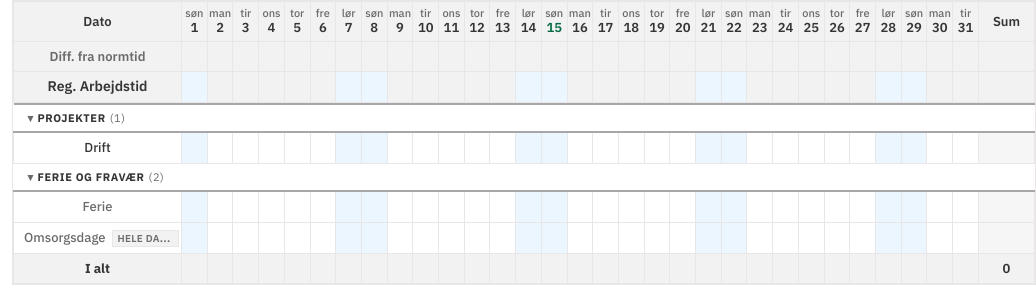
Test: SkemaGrid — full-day snap (S73 R5) › S123: a full-day-only value fills to the served basis ON INPUT (before blur) — a partial can never reach save
This screenshot has width=1036, height=302.
Step 1. Type "3" into the field named "Omsorgsdage dag 2" → x=220, y=238, box [208,223,232,253]
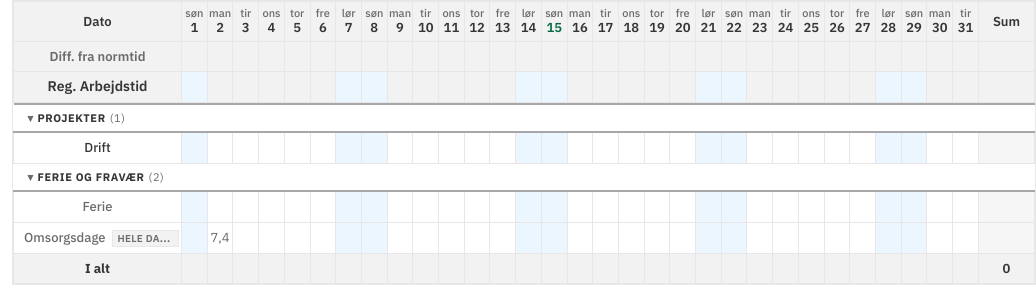
Check: the field named "Omsorgsdage dag 2" holds "7,4", box [208,223,232,253]
